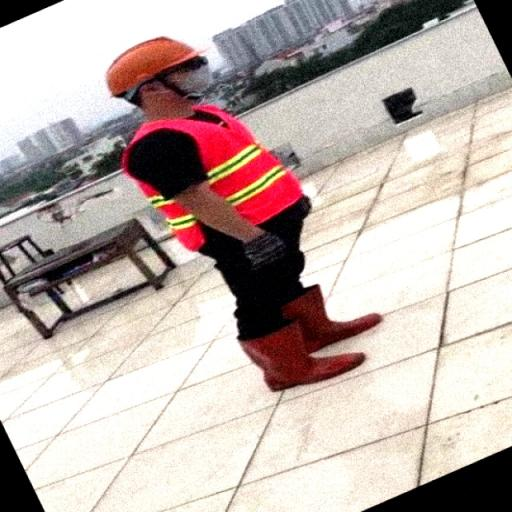Person: (78, 23, 412, 400)
boots: (230, 318, 364, 397), (282, 283, 383, 341)
gloves: (235, 232, 294, 270)
goggles: (158, 54, 222, 76)
helmet: (102, 38, 210, 98)
vest: (116, 102, 306, 250)
